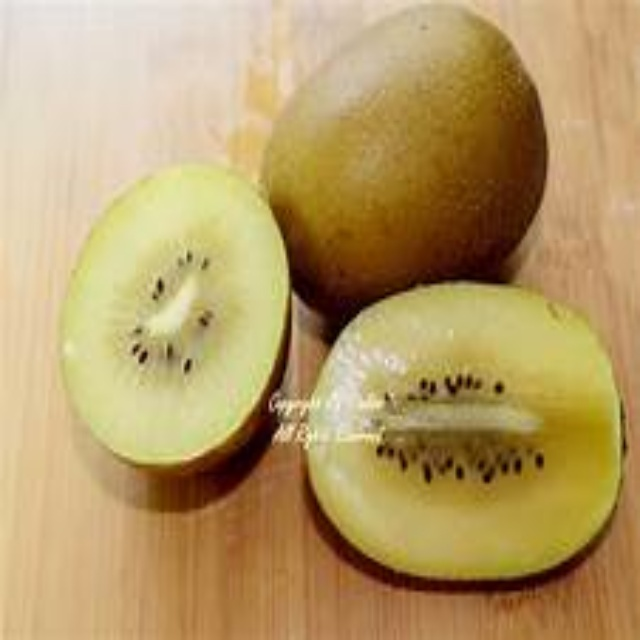kiwi: (310, 279, 627, 586), (270, 10, 554, 308), (68, 177, 293, 473)
